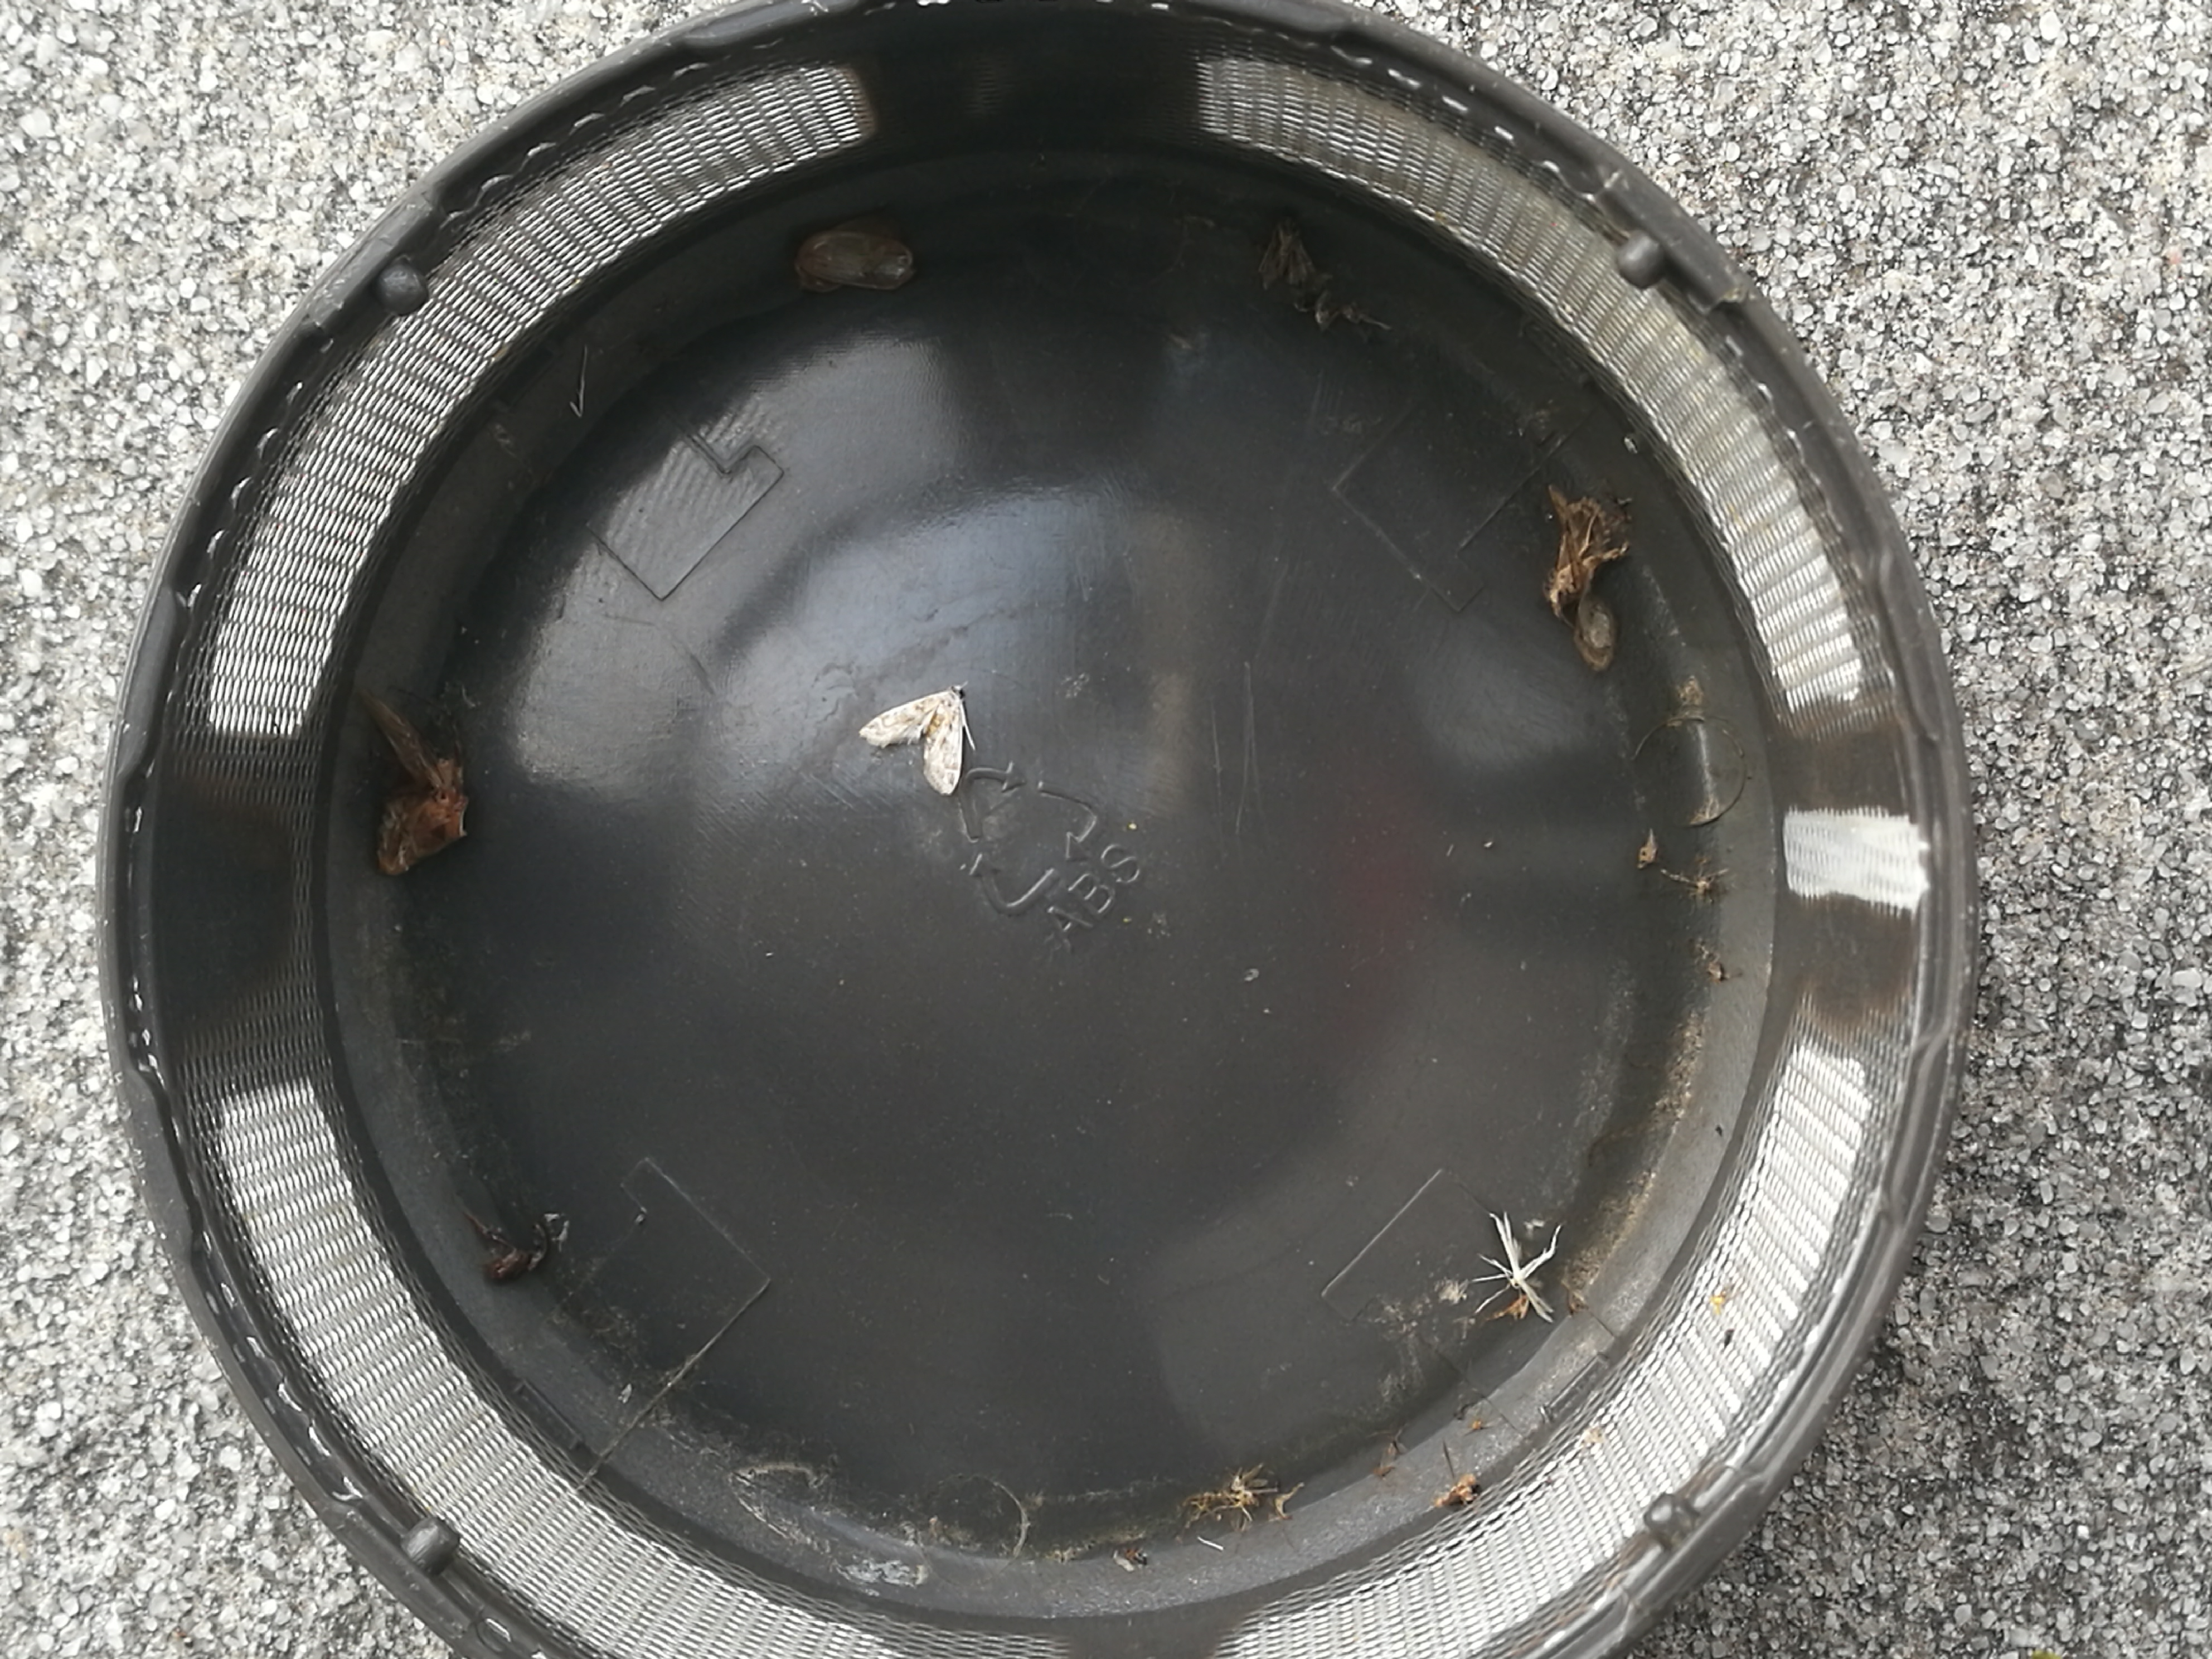mosquito: (364, 690, 446, 795)
moth: (857, 681, 961, 793), (1548, 483, 1629, 599), (1261, 223, 1312, 296)
